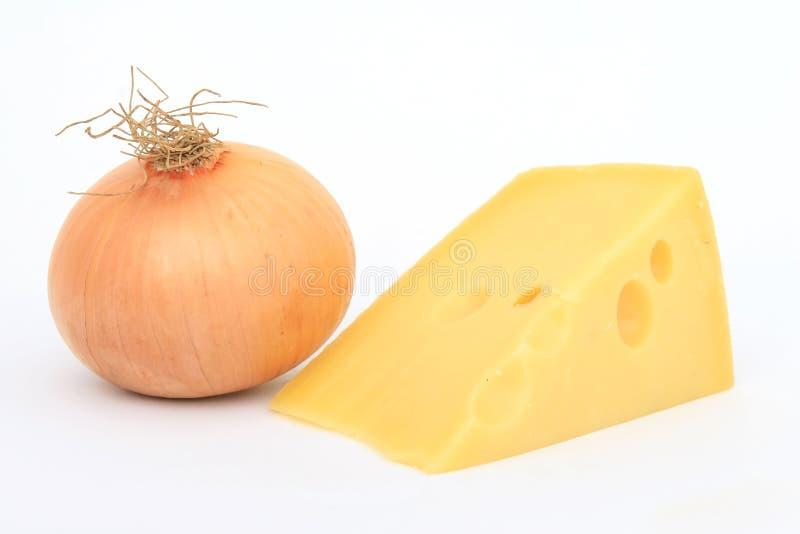Onion: (49, 143, 355, 398)
